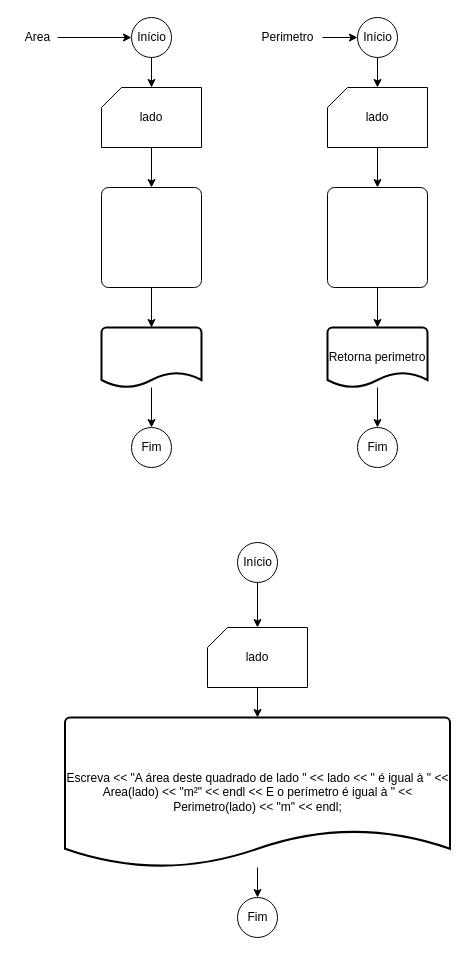
Image size: 468x955. Some labels were removed from this diagram. Each missing label, with the centre of its shape:
"area = lado * lado;" belongs at point (151, 237).
"perimetro = lado * 4" belongs at point (377, 237).
"Retorna area" belongs at point (151, 357).
